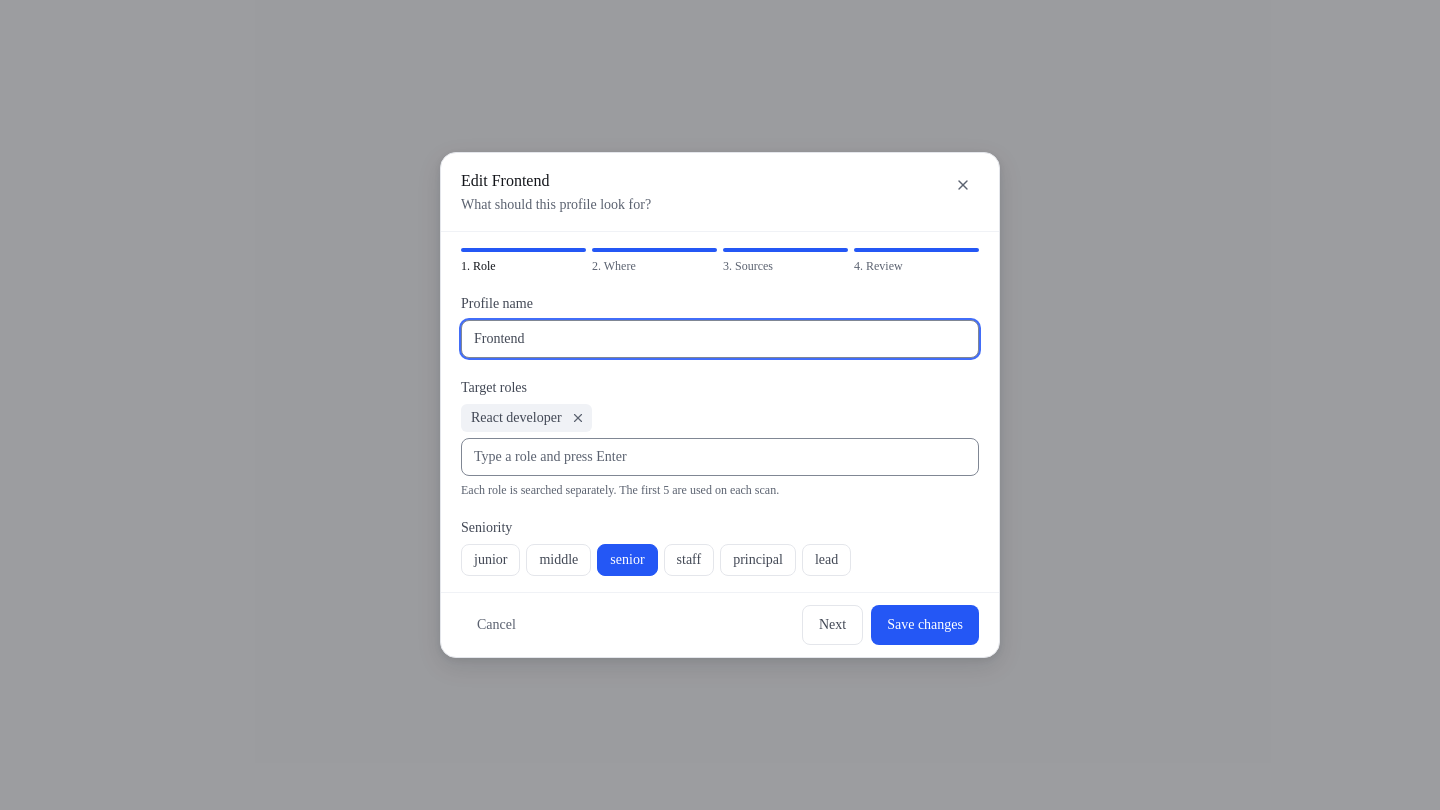
Test: ProfileFormDialog edit › disables Cancel and ignores close requests while saving
Click the button "Save changes": click(925, 625) [871, 605, 979, 645]
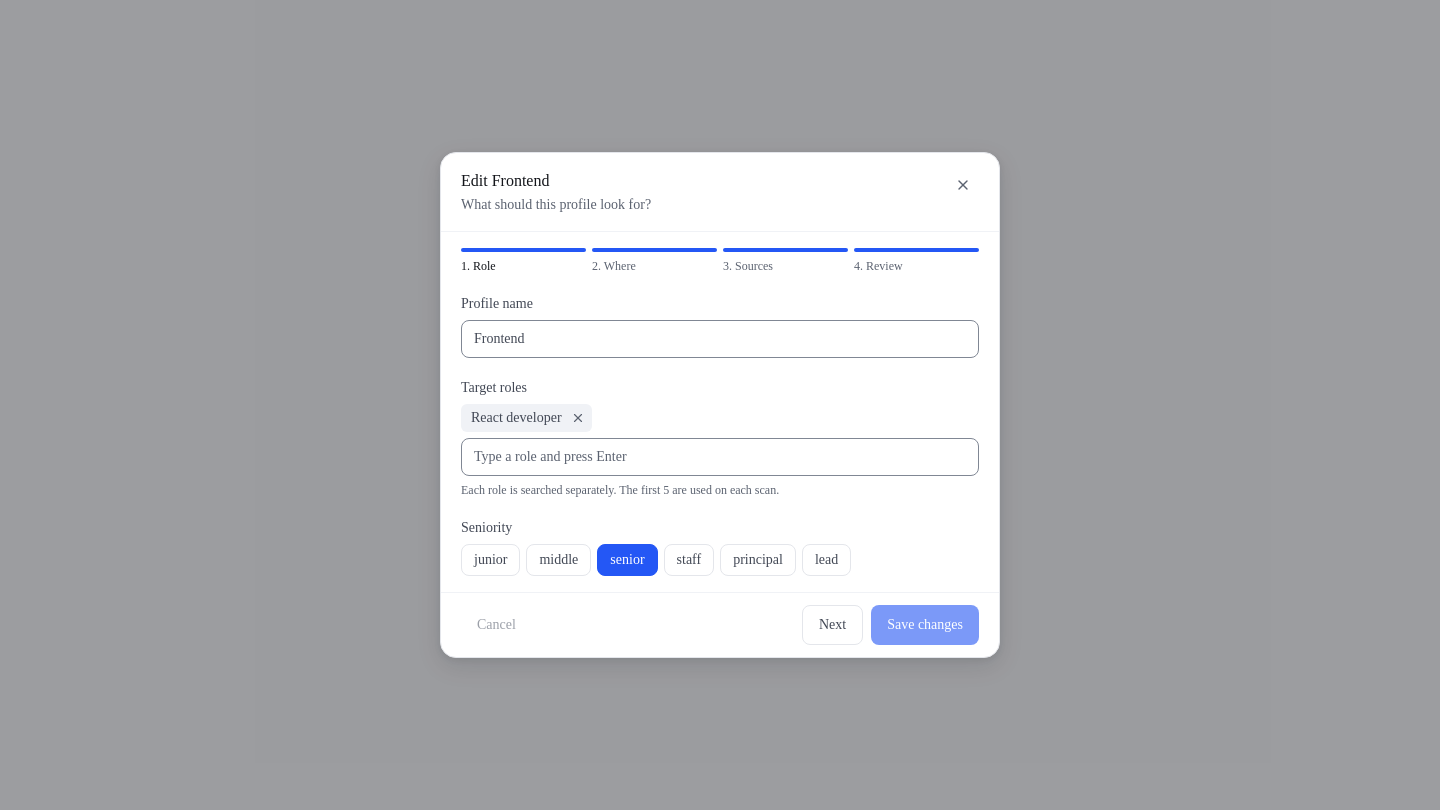
Now the button "Cancel" is disabled, box [461, 605, 532, 645]
Press Escape
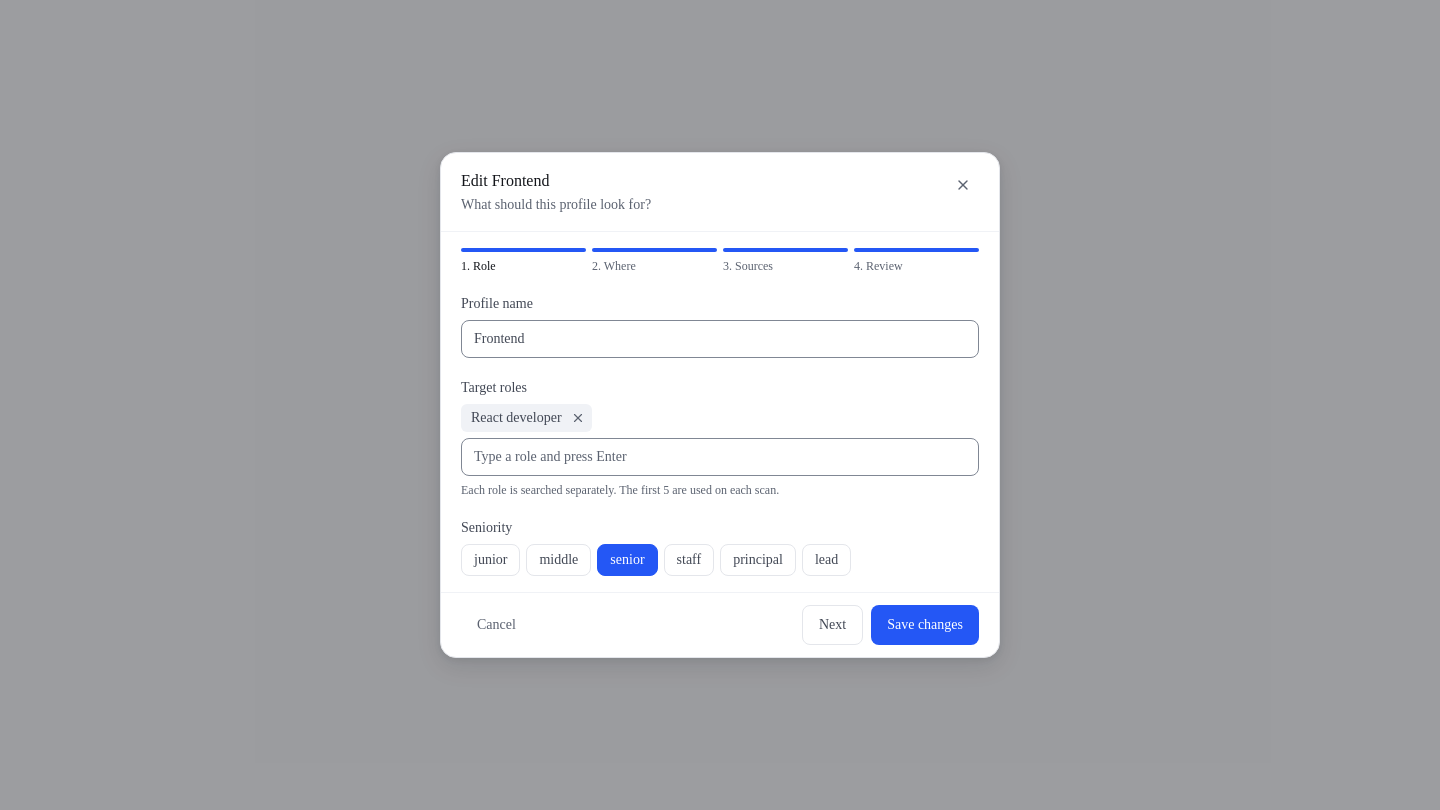
Now the button "Cancel" is enabled, box [461, 605, 532, 645]
